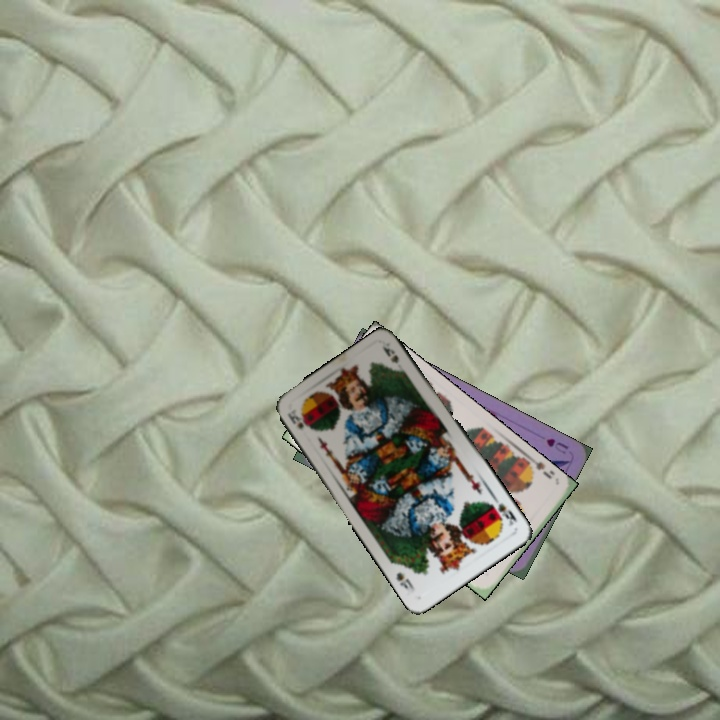HU: (542, 434, 571, 457)
S9: (522, 453, 555, 482)
SK: (487, 495, 520, 529), (283, 405, 314, 434)
